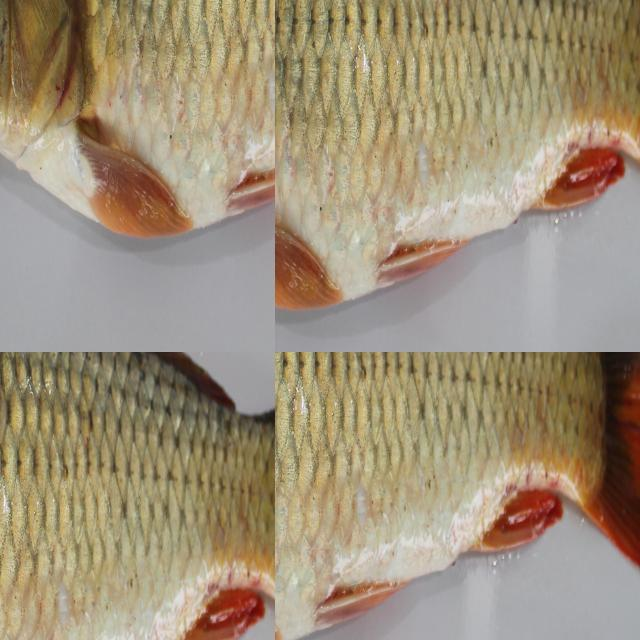fish: (275, 352, 640, 640), (0, 0, 275, 352)
